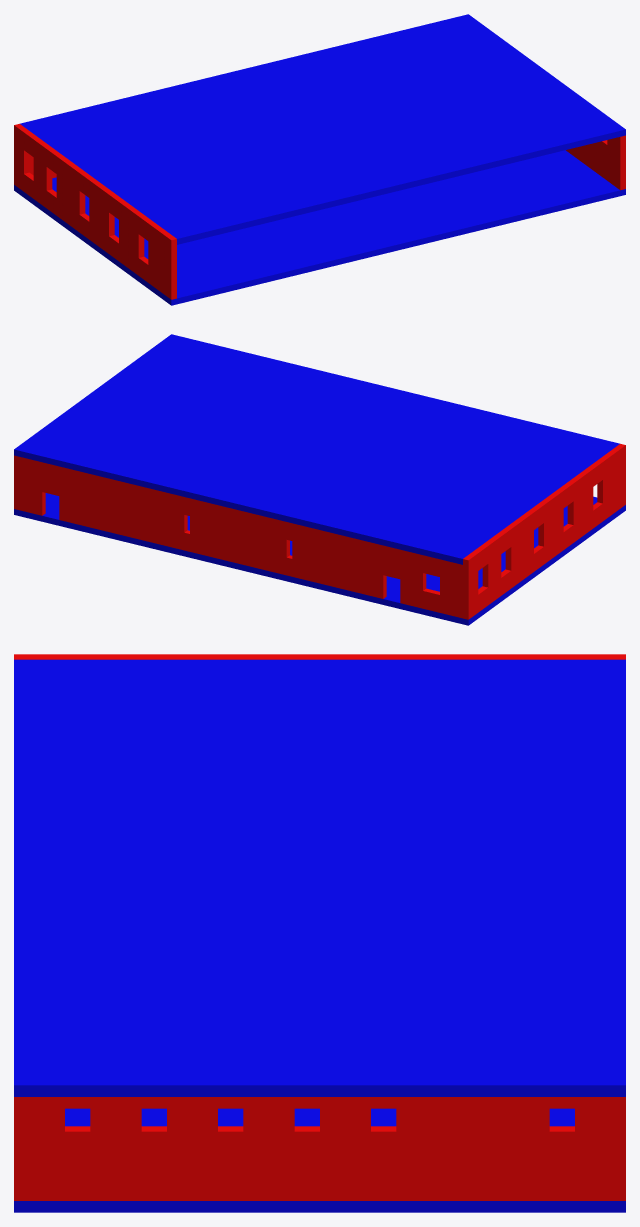
File: convitto.gltf
The picture shows the model from 3 angles, top to bottom: view 1: azimuth 30°, elevation 25°; view 2: azimuth 150°, elevation 25°; view 3: azimuth 270°, elevation 25°; orthographic projection. The views are drawn at different scales.
Parts seen in each view (by area): view 1: Layer.1; view 2: Layer.1; view 3: Layer.1.
Boxes of the visible parts, box(x1,y1,x2,y2) form: Layer.1: box(14, 14, 625, 305); Layer.1: box(14, 334, 625, 625); Layer.1: box(14, 654, 625, 1212).
Bounding box in the file's own units: 80 × 11 × 48.
Materials: 1 (1 with a texture image).
